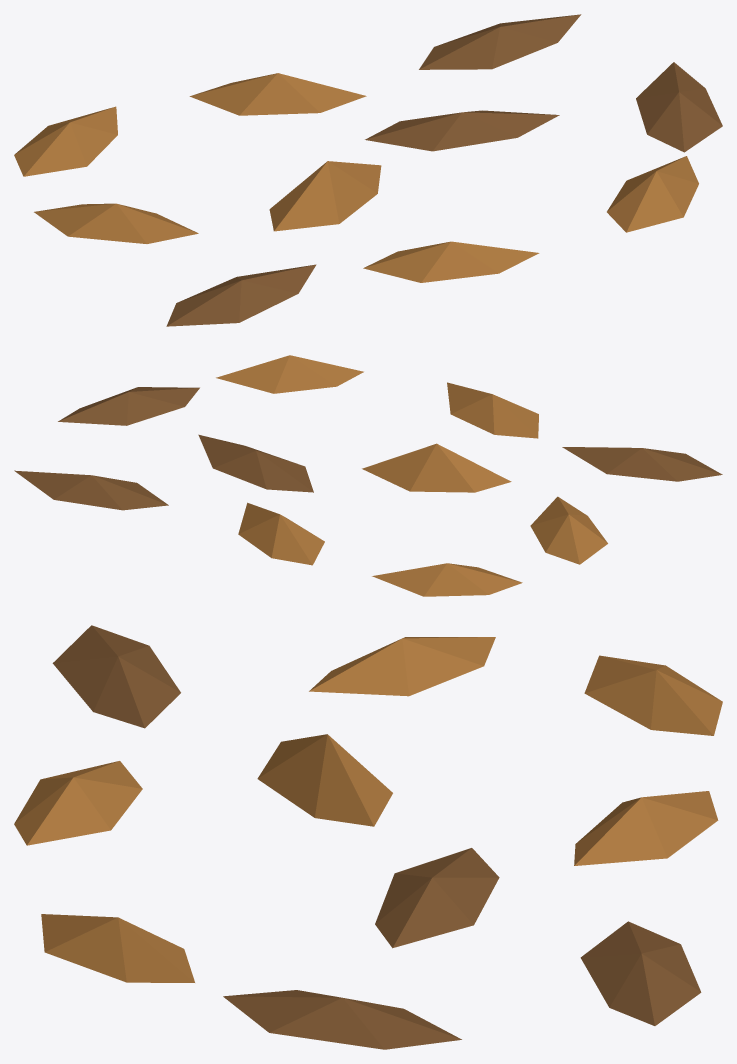
File: bit_leaves.glb
3 views of the same model, one above another, from view 1: azimuth 30°, elevation 25°; view 2: azimuth 150°, elevation 25°; view 3: azimuth 270°, elevation 25° (orthographic). The views are drawn at different scales.
Parts seen in each view (by area): view 1: Leaf_Mesh, LeafDark_Mesh; view 2: Leaf_Mesh, LeafDark_Mesh; view 3: Leaf_Mesh, LeafDark_Mesh.
Boxes of the visible parts, x1,y1,x2,y2 form: Leaf_Mesh: [14, 73, 698, 282]; LeafDark_Mesh: [166, 14, 722, 326]; Leaf_Mesh: [216, 355, 607, 596]; LeafDark_Mesh: [14, 387, 722, 510]; Leaf_Mesh: [14, 637, 722, 982]; LeafDark_Mesh: [52, 625, 701, 1049].
Size of the model in its own units: 0.672 by 0.04 by 0.4742.
